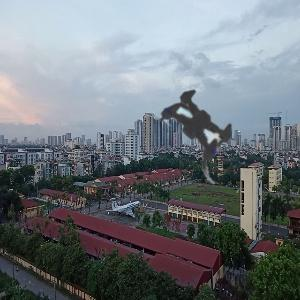drone: (110, 35, 284, 209)
